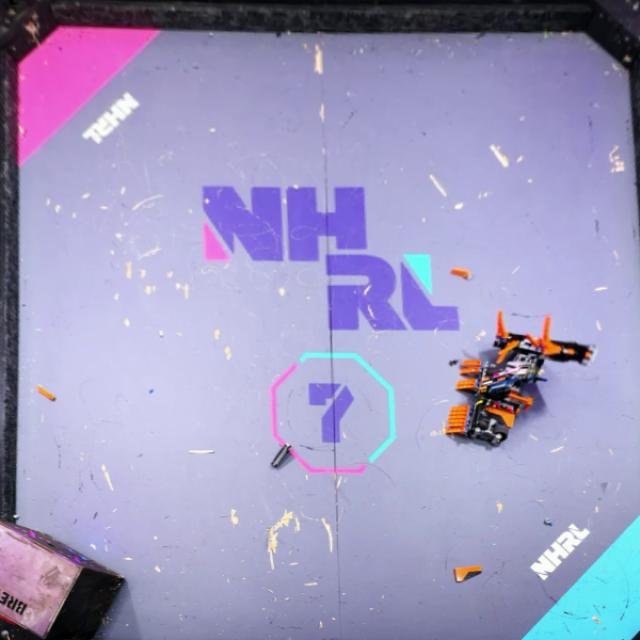housebot: (0, 518, 126, 640)
robot: (492, 310, 600, 384), (447, 358, 533, 446)
